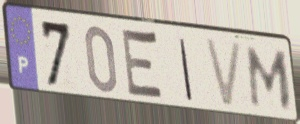0: (82, 24, 119, 96)
7: (40, 18, 73, 89)
E: (120, 24, 167, 105)
I: (177, 36, 194, 103)
M: (246, 44, 293, 112)
V: (202, 36, 245, 111)
